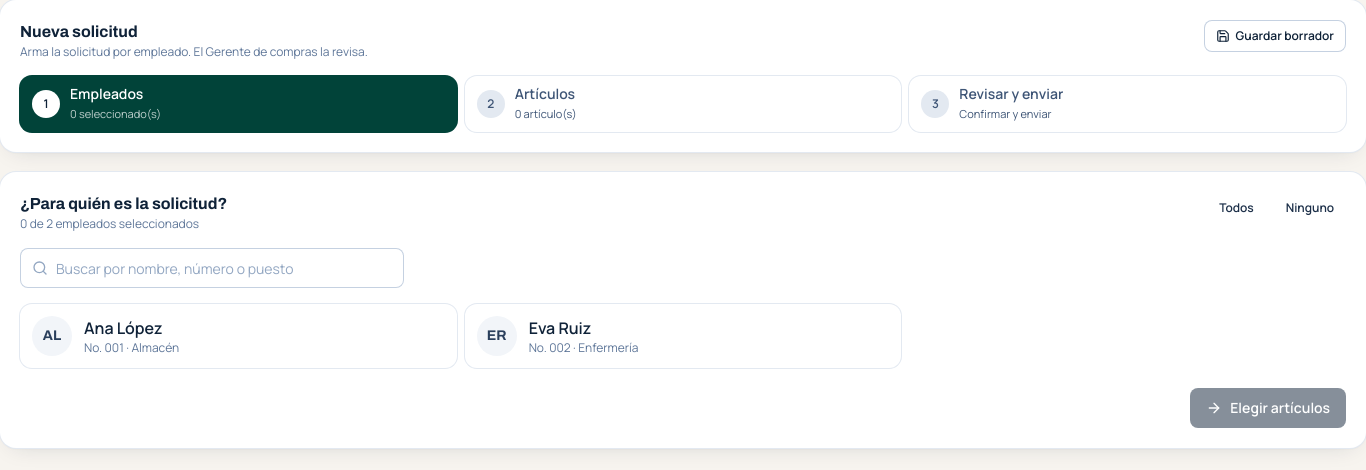
Test: estado inicial › ofrece solo a los empleados activos y no avanza sin seleccionar a alguien
The width and height of the screenshot is (1366, 470).
Check: the button "ER Eva Ruiz No. 002 · Enfermería" is shown, box [465,304,901,368]
Check: the button "Elegir artículos" is disabled, box [1190,388,1346,428]
What coordinates should you click on to do the following:
click the button "AL Ana López No. 001 · Almacén"
I would click on:
 (52, 336)
Its box is [20,304,457,368].
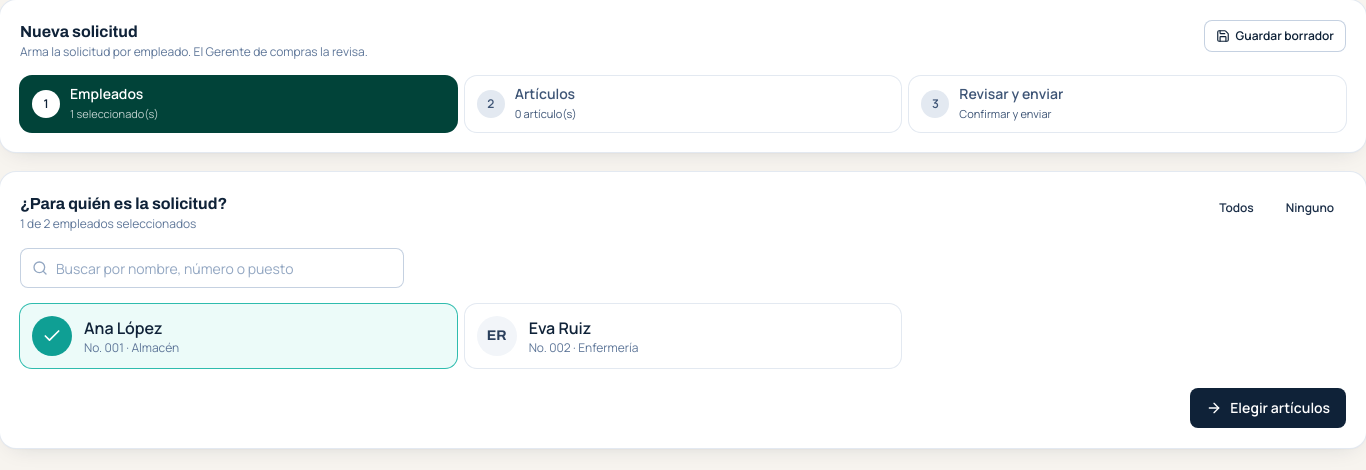
Check: the button "Elegir artículos" is enabled, box [1190,388,1346,428]
